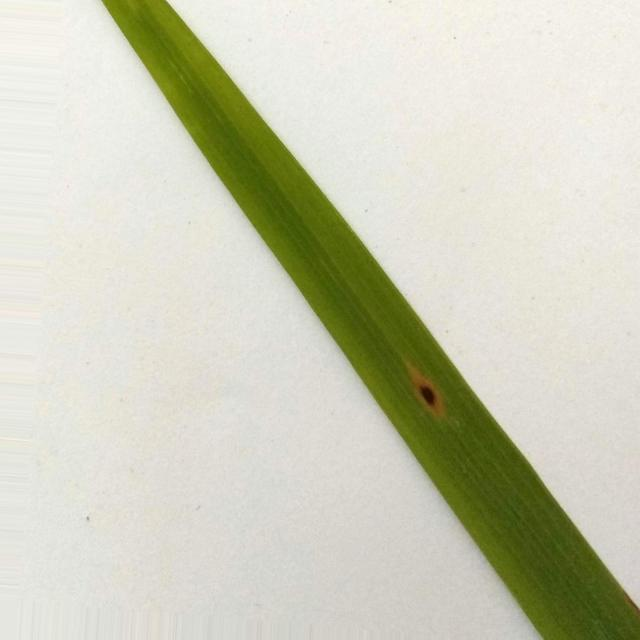Brown_Spot: (408, 364, 445, 419)
